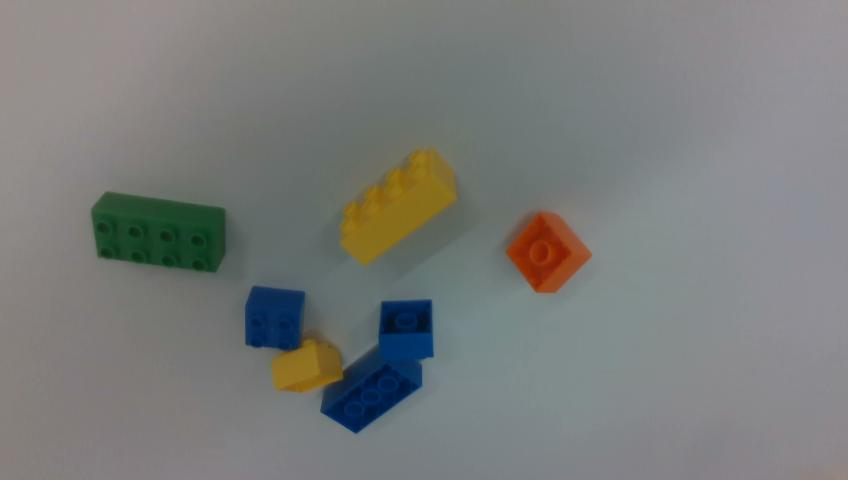2x2_blue: (246, 286, 303, 350), (380, 301, 433, 361)
2x2_orange: (508, 212, 591, 292)
2x2_yellow: (272, 338, 343, 392)
4x2_blue: (321, 349, 421, 432)
4x2_green: (92, 192, 224, 272)
4x2_yellow: (341, 149, 455, 264)
